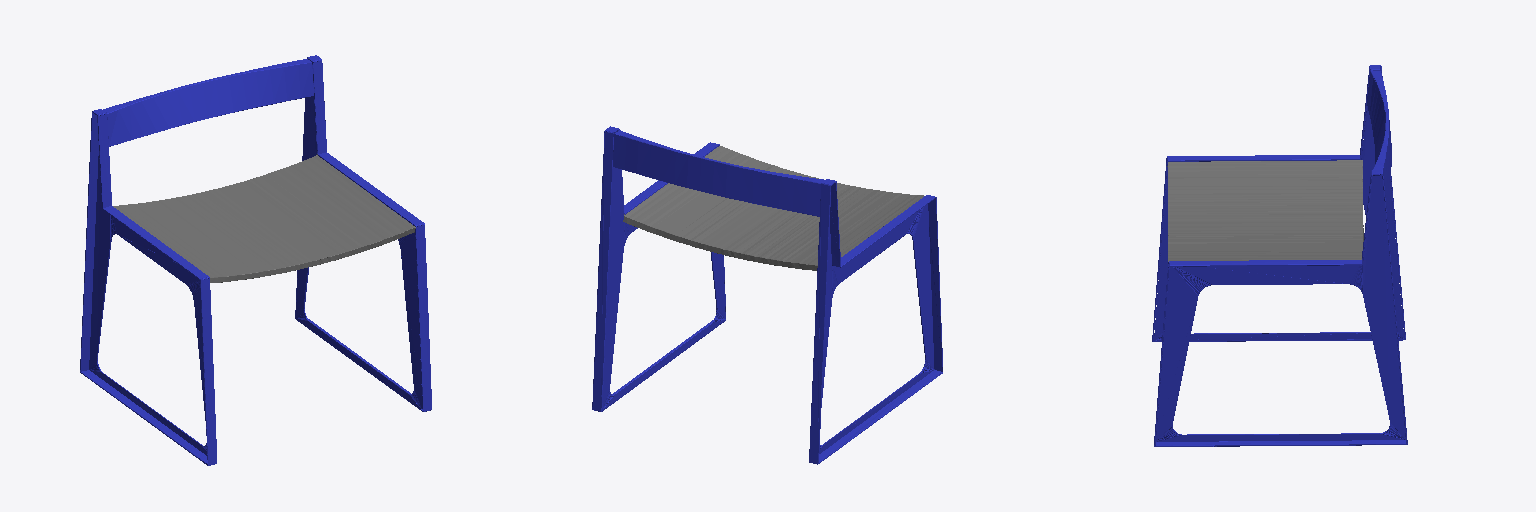
File: chair10.obj
3 renders of one model, left to right at view 1: azimuth 30°, elevation 25°; view 2: azimuth 150°, elevation 25°; view 3: azimuth 270°, elevation 25°, orthographic.
Parts seen in each view (by area): view 1: Object.4, Object.2, Object.5, Object.3; view 2: Object.4, Object.2, Object.5, Object.3; view 3: Object.4, Object.2, Object.5.
Part boxes in pixels (x1,y1,x2,y2): Object.4: (80, 55, 431, 465); Object.2: (113, 155, 415, 282); Object.5: (103, 59, 313, 146); Object.3: (210, 228, 415, 282); Object.4: (592, 126, 942, 464); Object.2: (624, 146, 923, 270); Object.5: (613, 130, 824, 216); Object.3: (623, 216, 817, 270); Object.4: (1152, 65, 1407, 446); Object.2: (1168, 160, 1362, 261); Object.5: (1367, 71, 1391, 197).
Size of the model in its own units: 78.2 by 89.64 by 76.14.